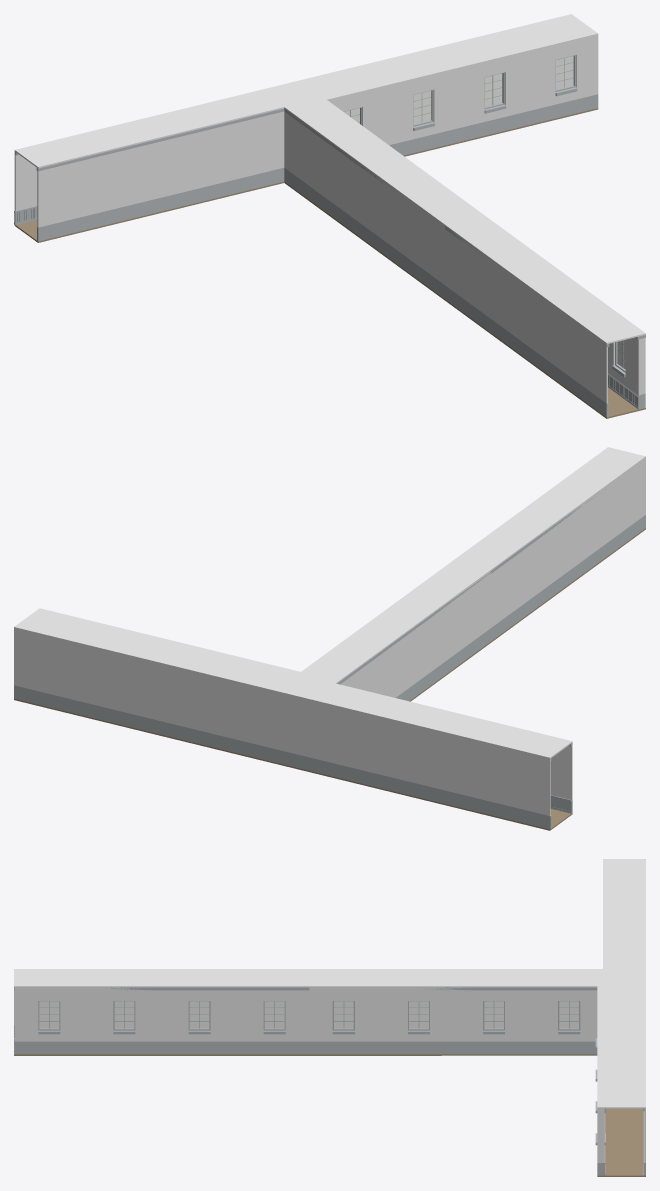
Rendered from 876_european_corridor_Tshaped.glb.
3 renders of one model, top to bottom at view 1: azimuth 30°, elevation 25°; view 2: azimuth 150°, elevation 25°; view 3: azimuth 270°, elevation 25°, orthographic. The views are drawn at different scales.
Parts seen in each view (by area): view 1: kabe3, 天井, kabe2, 床, kabe1; view 2: kabe1, 天井, kabe3, 床; view 3: kabe2, 天井, 床.
Boxes of the visible parts, x1,y1,x2,y2 form: kabe3: (36, 108, 609, 417); 天井: (14, 14, 645, 344); kabe2: (329, 35, 645, 409); 床: (14, 108, 645, 418); kabe1: (14, 151, 37, 225); kabe1: (14, 628, 551, 829); 天井: (14, 447, 645, 758); kabe3: (337, 458, 645, 813); 床: (14, 528, 645, 830); kabe2: (14, 987, 605, 1175); 天井: (14, 859, 645, 1108); 床: (14, 1038, 645, 1176).
Size of the model in its own units: 39.95 by 5.2 by 42.91.
